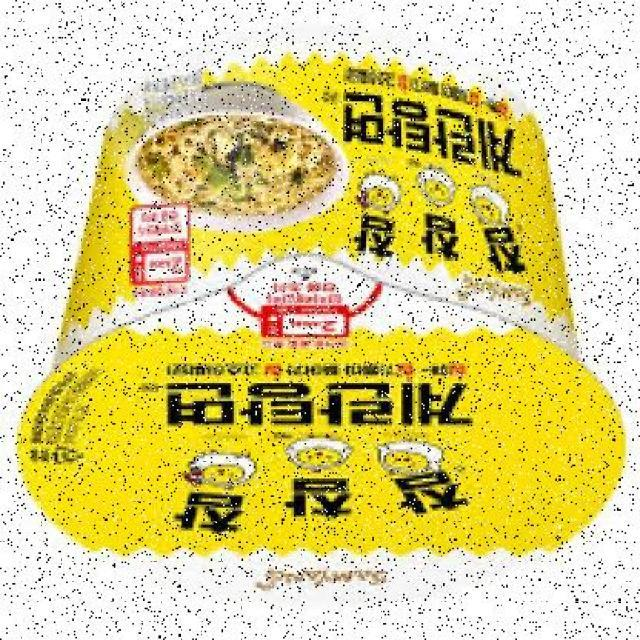Miscellaneous: (7, 23, 616, 606)
